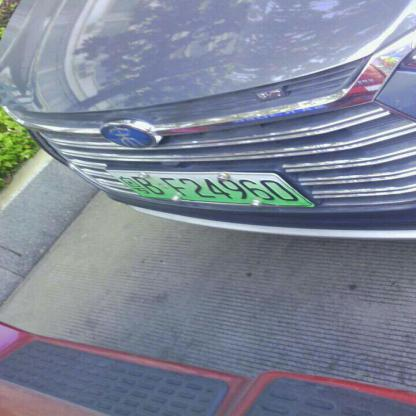lp: (107, 170, 314, 206)
